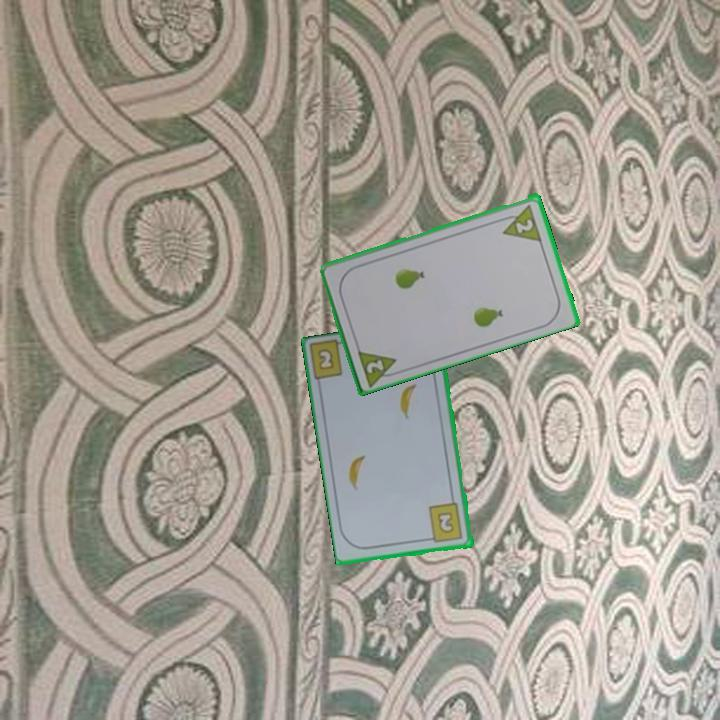2b: (424, 500, 466, 546), (315, 347, 337, 373)
2p: (512, 215, 536, 236), (363, 355, 387, 376)
